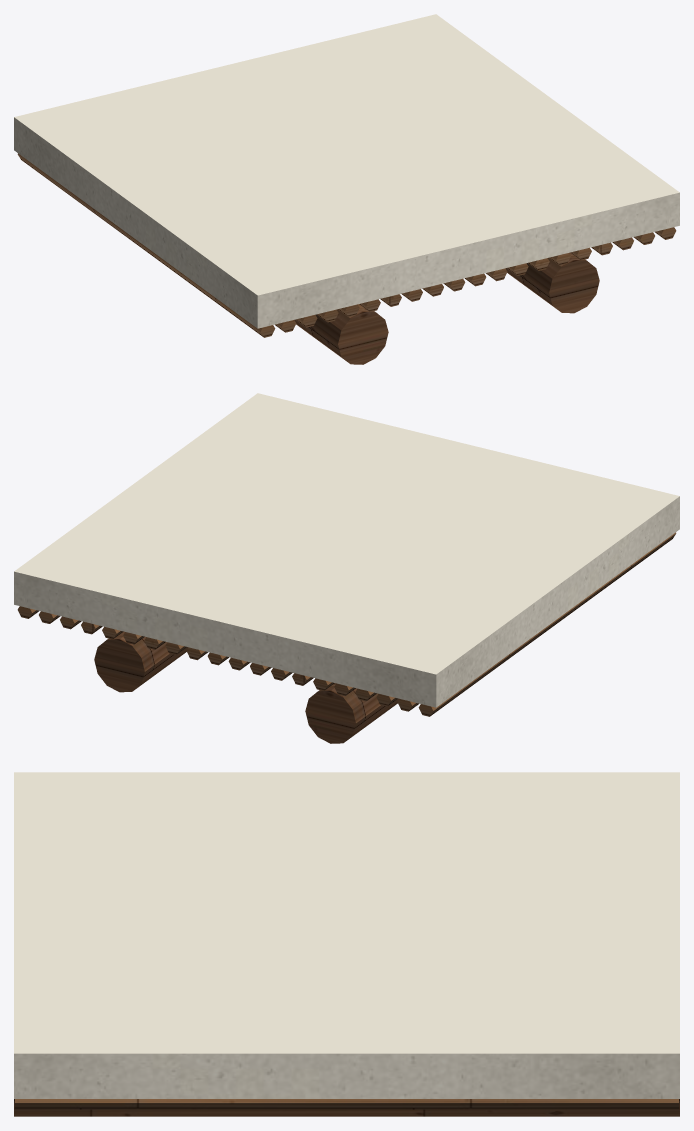
The model's file is m_ceiling.glb.
The picture shows the model from 3 angles, top to bottom: view 1: azimuth 30°, elevation 25°; view 2: azimuth 150°, elevation 25°; view 3: azimuth 270°, elevation 25°; orthographic projection. The views are drawn at different scales.
Parts seen in each view (by area): view 1: m_ceiling_plaster, m_ceiling_wood, m_ceiling_planks; view 2: m_ceiling_plaster, m_ceiling_wood, m_ceiling_planks; view 3: m_ceiling_plaster, m_ceiling_planks, m_ceiling_wood.
Part boxes in pixels (x1,y1,x2,y2): m_ceiling_plaster: [14, 14, 679, 328]; m_ceiling_wood: [294, 252, 599, 364]; m_ceiling_planks: [17, 153, 676, 337]; m_ceiling_plaster: [14, 393, 679, 707]; m_ceiling_wood: [94, 631, 399, 743]; m_ceiling_planks: [17, 532, 676, 716]; m_ceiling_plaster: [14, 772, 679, 1098]; m_ceiling_planks: [15, 1099, 678, 1109]; m_ceiling_wood: [14, 1099, 679, 1116].
Bounding box in the file's own units: 2 × 0.43 × 2.
3 materials, 3 textured.
